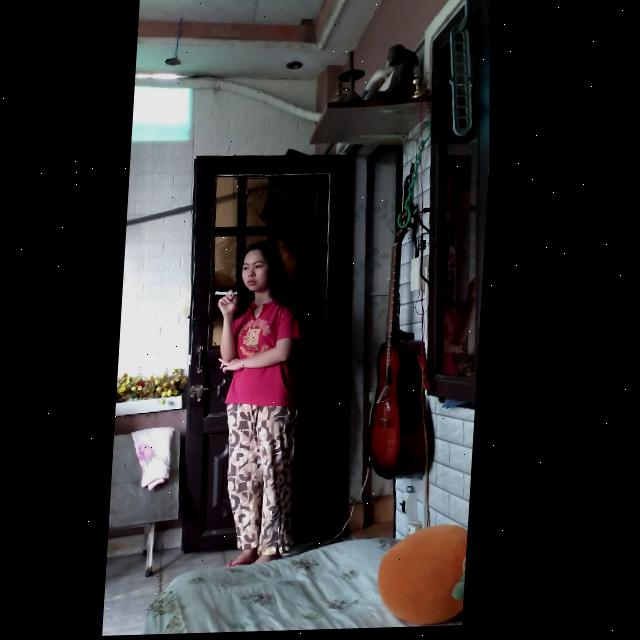cigarette: (219, 292, 241, 297)
